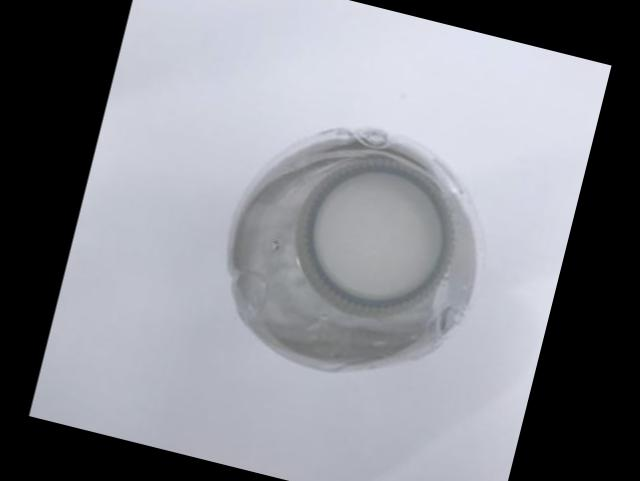plastic: (232, 126, 481, 368)
